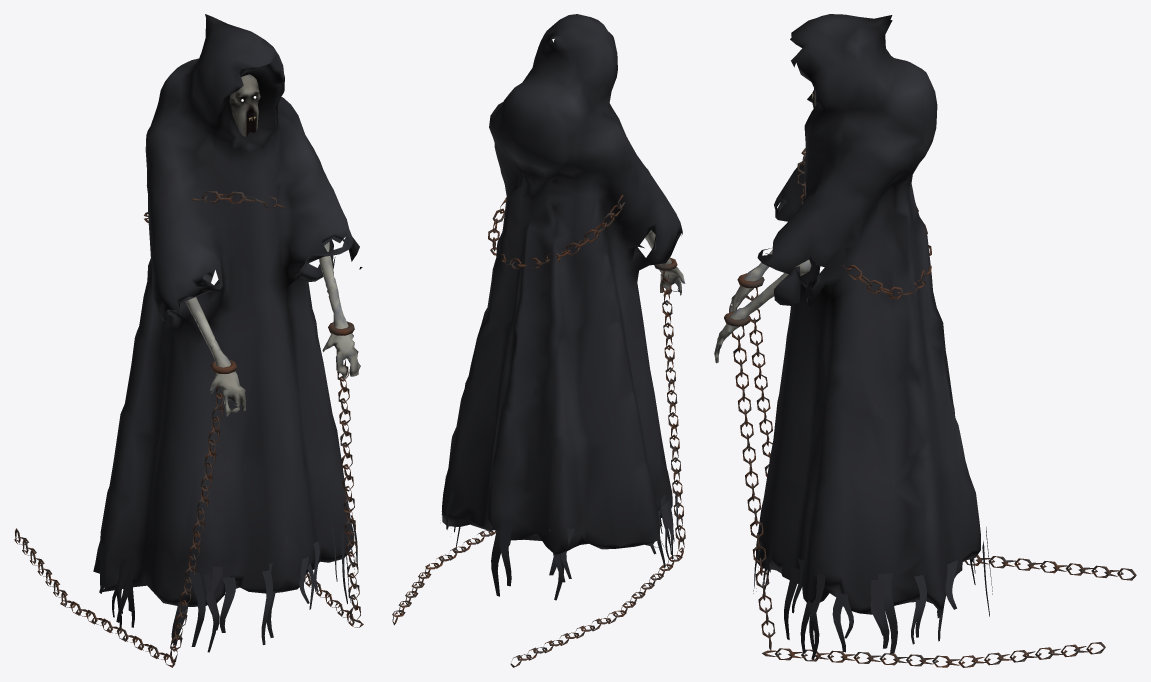
Rendered from wraith_v16.glb.
The picture shows the model from 3 angles, left to right: view 1: azimuth 30°, elevation 25°; view 2: azimuth 150°, elevation 25°; view 3: azimuth 270°, elevation 25°; orthographic projection. The views are drawn at different scales.
Parts seen in each view (by area): view 1: wraith; view 2: wraith; view 3: wraith.
Boxes of the visible parts, box(x1,y1,x2,y2) form: wraith: box(14, 14, 363, 667); wraith: box(392, 14, 685, 667); wraith: box(714, 14, 1136, 667).
Bounding box in the file's own units: 1.26 × 2.92 × 1.86.
